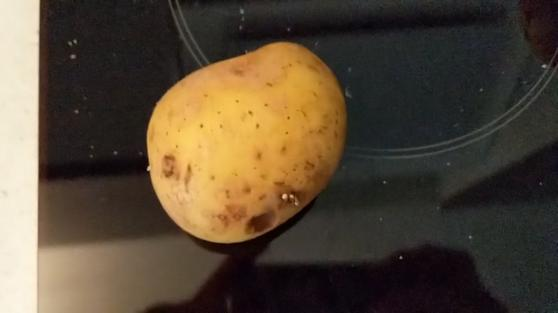potato: (144, 42, 347, 243)
